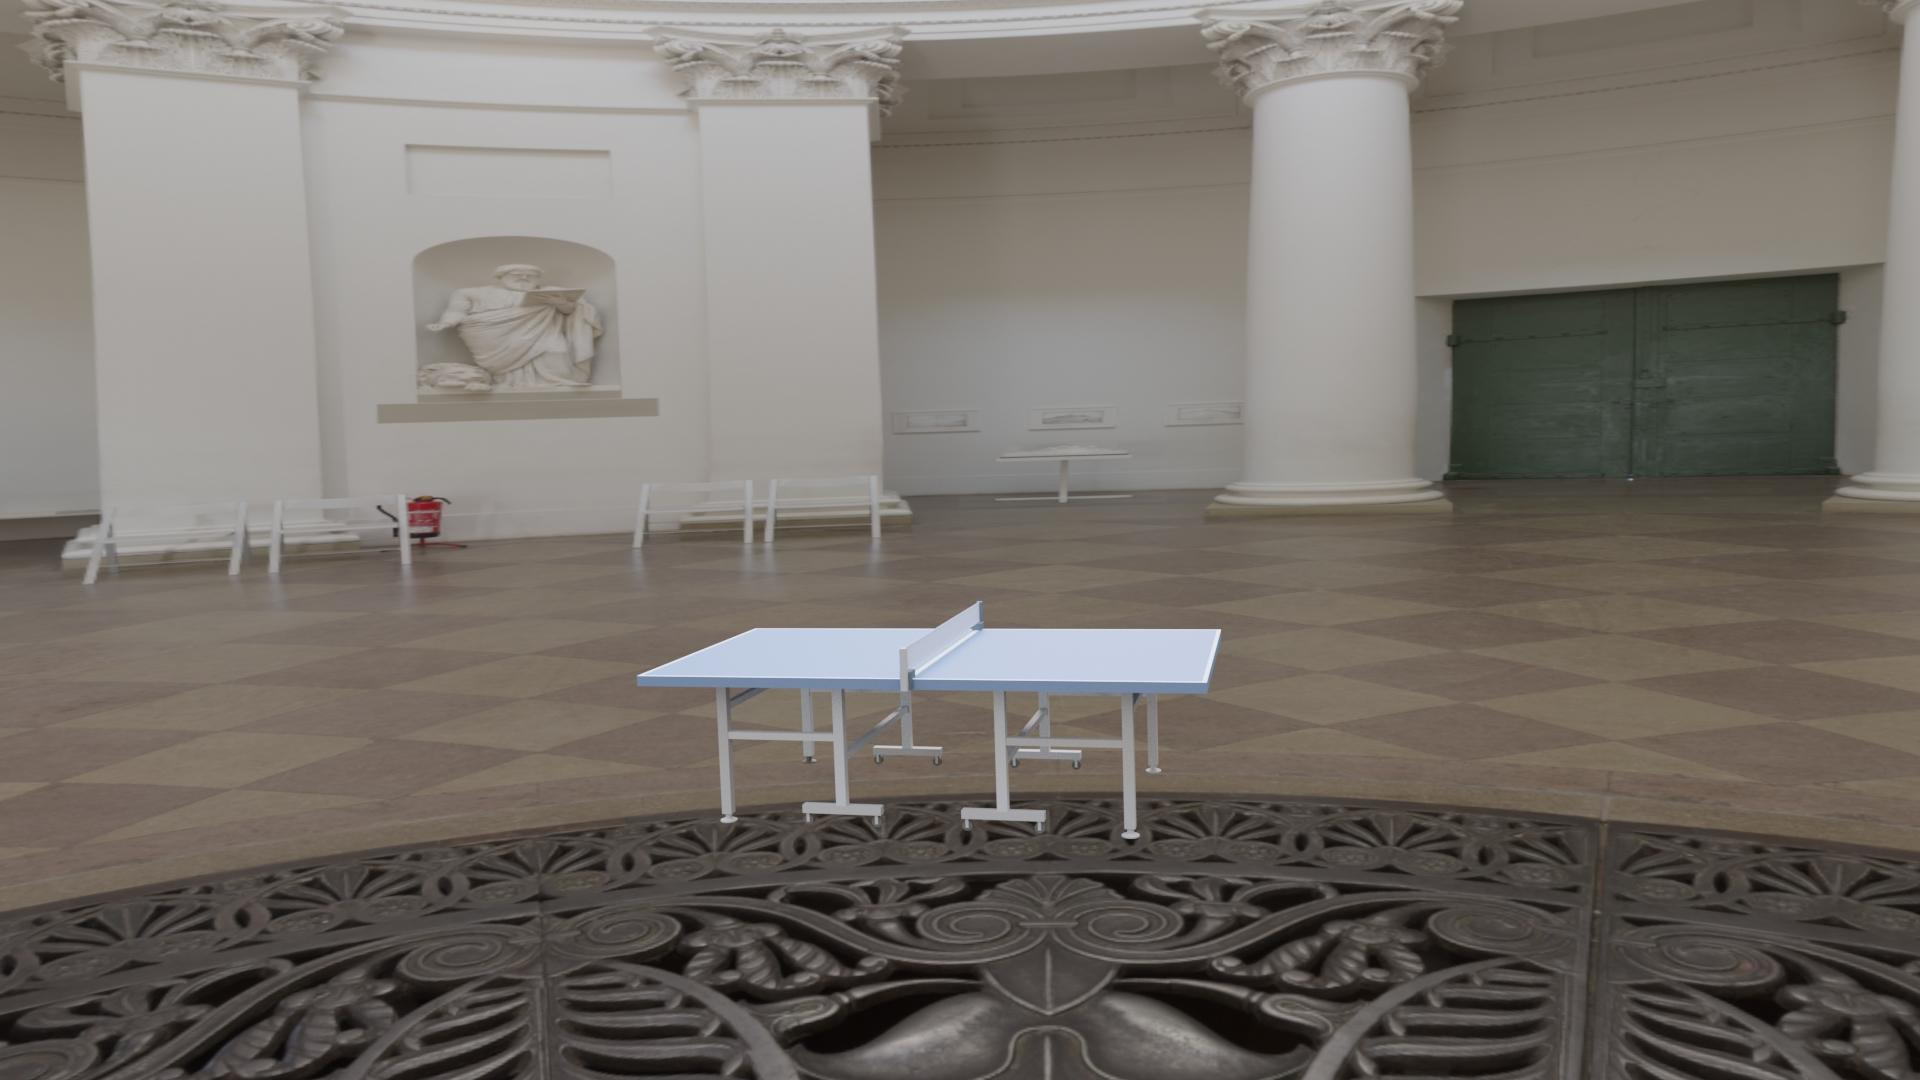table: (642, 629, 1217, 682)
